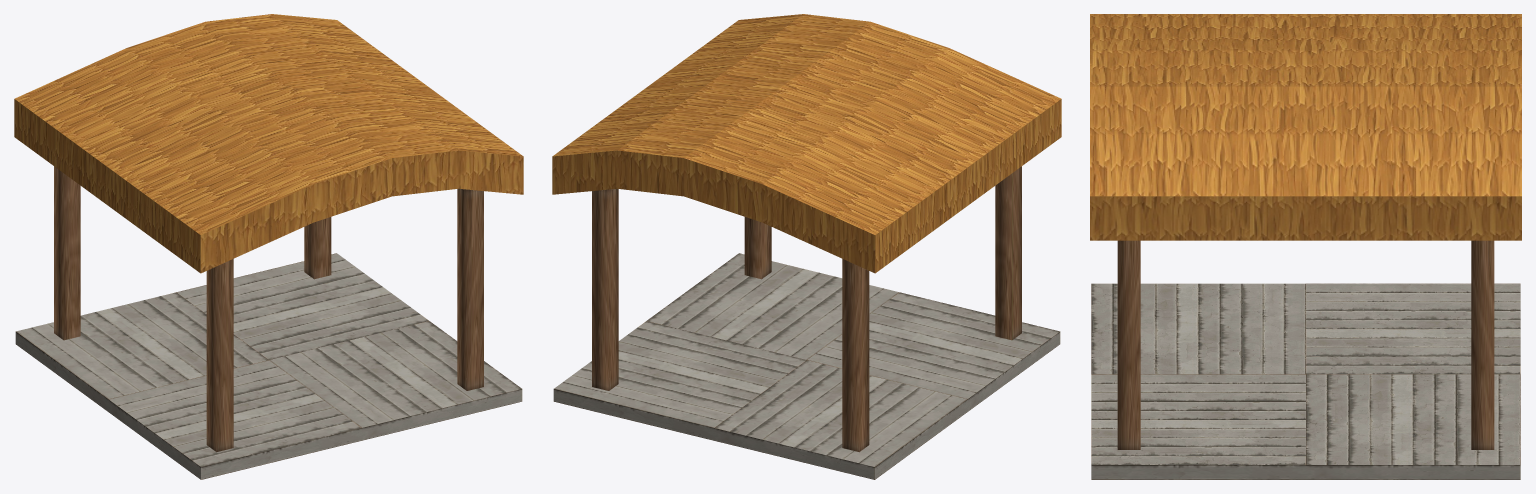
3 renders of one model, left to right at view 1: azimuth 30°, elevation 25°; view 2: azimuth 150°, elevation 25°; view 3: azimuth 270°, elevation 25°, orthographic. The views are drawn at different scales.
Visible parts, largest first — view 1: defaultMaterial.030; view 2: defaultMaterial.030; view 3: defaultMaterial.030.
Part boxes in pixels (x1,y1,x2,y2): defaultMaterial.030: (14, 14, 523, 479); defaultMaterial.030: (552, 14, 1061, 479); defaultMaterial.030: (1090, 14, 1521, 479).
Size of the model in its own units: 259 by 211 by 259.
1 material, 1 textured.
